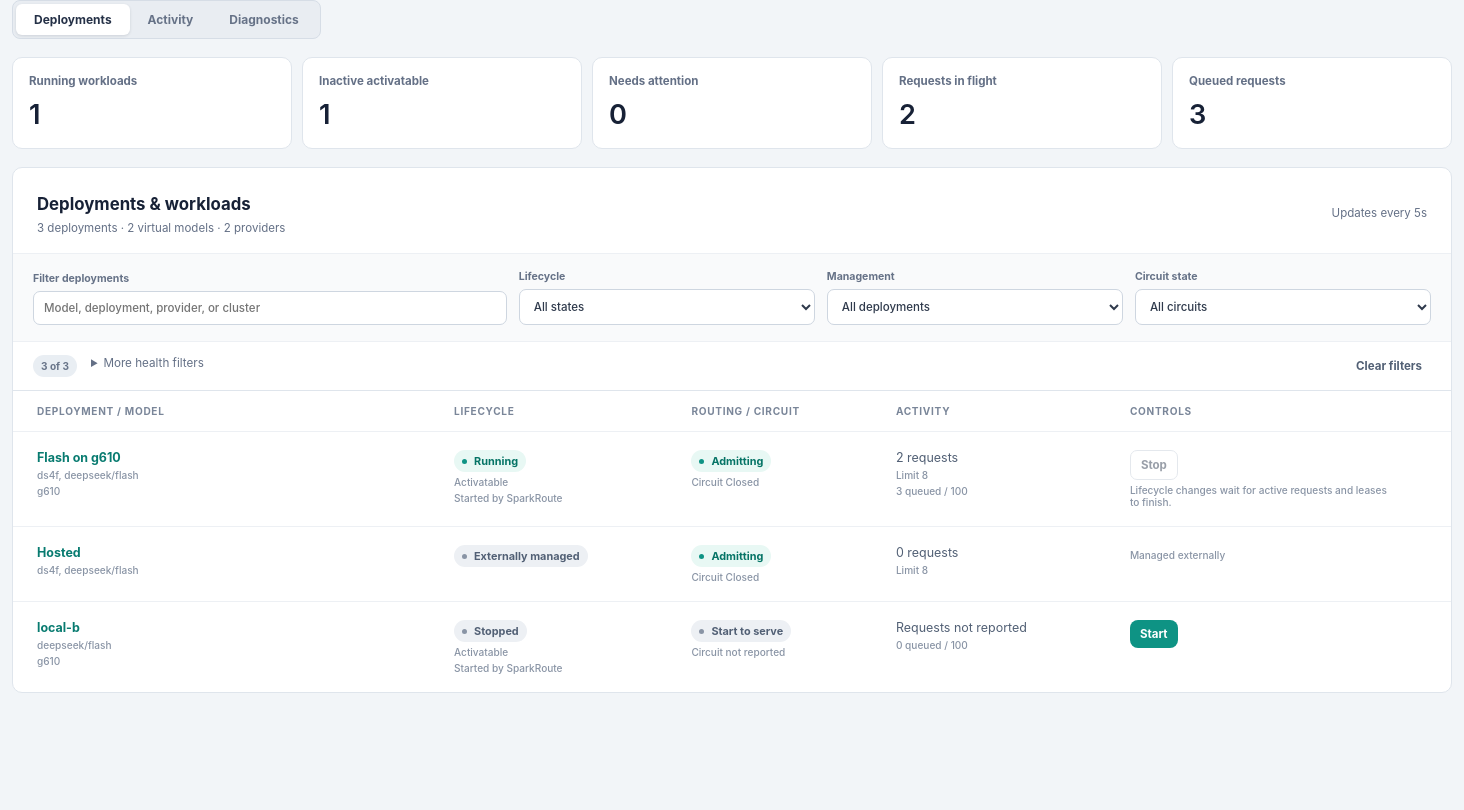
joins overlapping sources by deployment, preserves inactive bindings, and counts traffic once
The width and height of the screenshot is (1464, 810).
Expected: the button "local-b" is shown, [37,620,80,635]
Expected: the number of rows is 4, [13,391,1451,432]; [13,432,1451,526]; [13,526,1451,602]; [13,602,1451,692]
Click the button "Inactive activatable 1". click: {"x": 374, "y": 81}
box: [302,57,582,149]
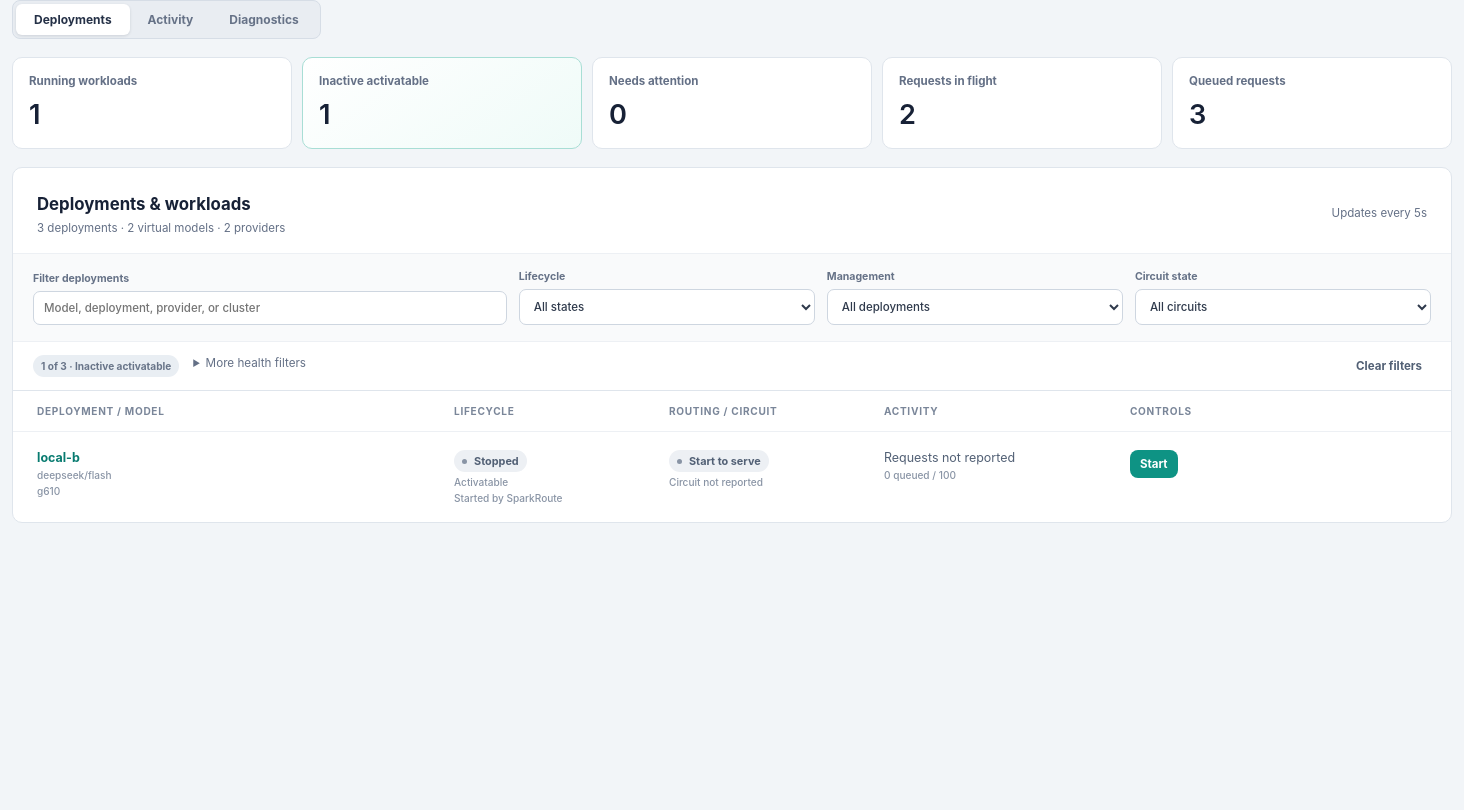
Expected: the text "Stopped" is shown, [454,450,527,472]
Expected: the button "Flash on g610" is gone
Click the button "Clear filters". click: {"x": 1389, "y": 366}
box: [1347,352,1431,380]
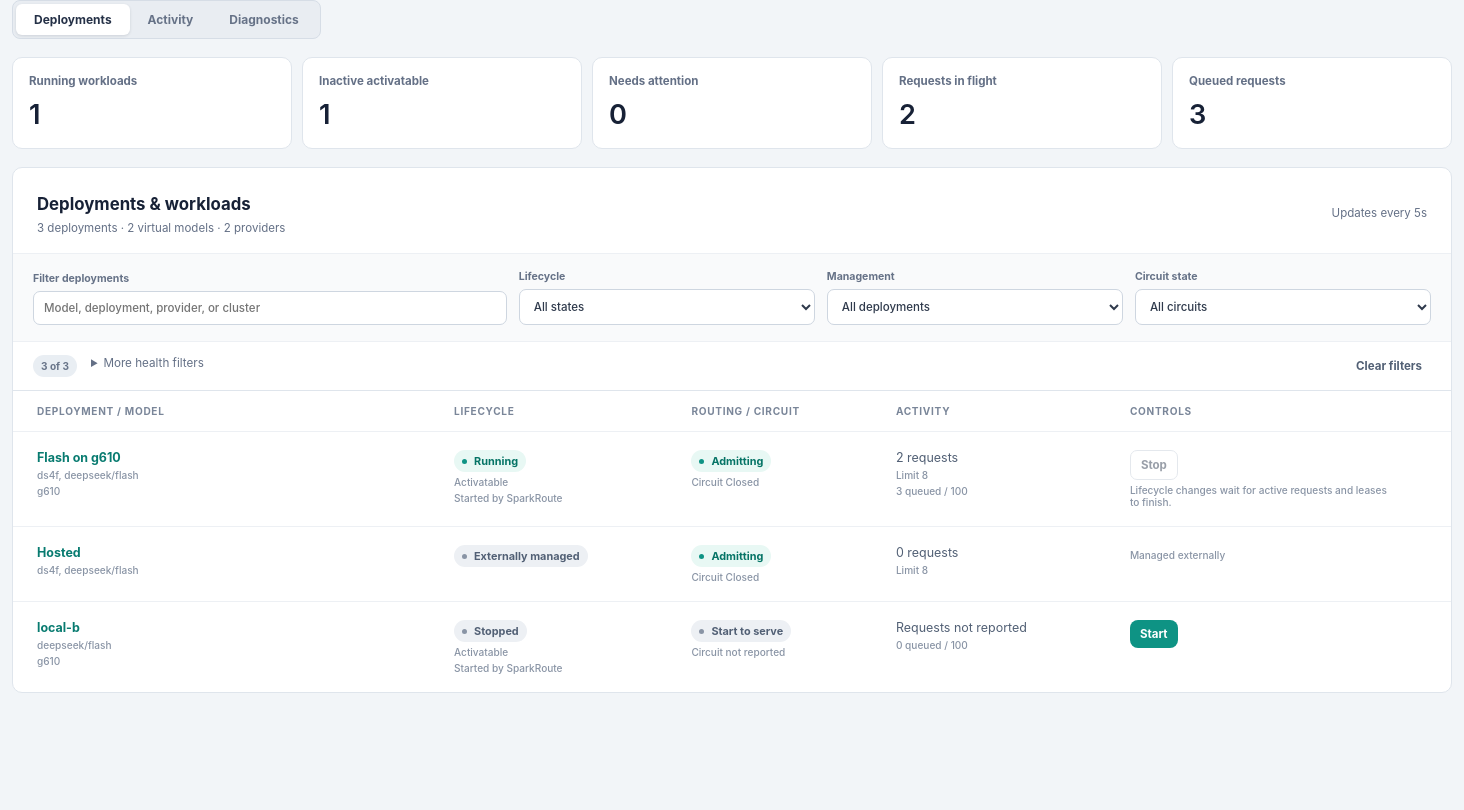
Type "g610" into the field labelled "Filter deployments". click: {"x": 270, "y": 308}
box: [33,291,507,325]
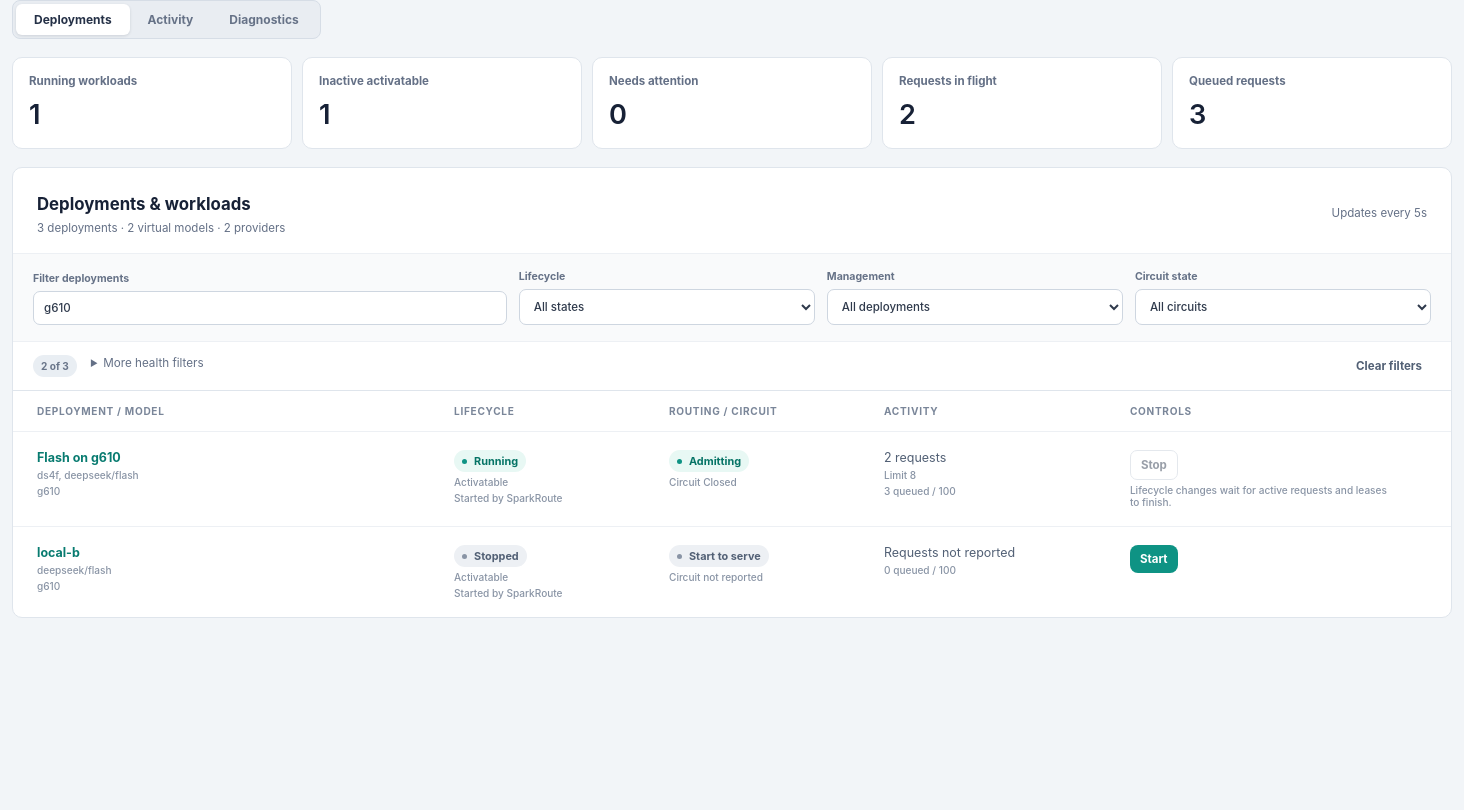
Expected: the button "Flash on g610" is shown, [37,450,121,465]
Expected: the button "Hosted" is gone
